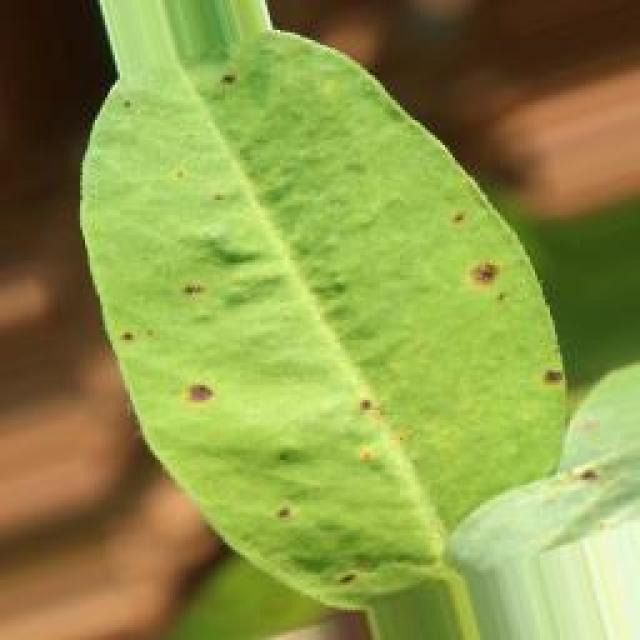Sigatoka: (340, 364, 426, 436), (176, 269, 262, 331), (98, 318, 179, 383), (224, 480, 314, 530), (161, 354, 223, 419), (265, 454, 330, 505), (468, 255, 521, 310), (213, 70, 274, 112), (323, 558, 386, 598), (438, 197, 492, 243), (568, 455, 611, 506), (549, 346, 582, 394)
